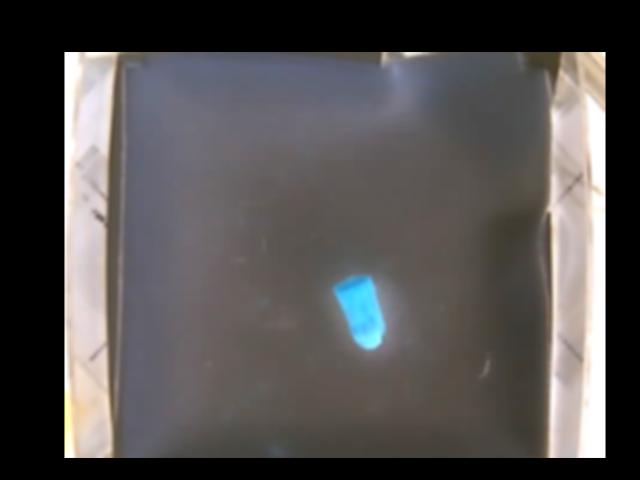Carrot: (333, 273, 384, 349)
